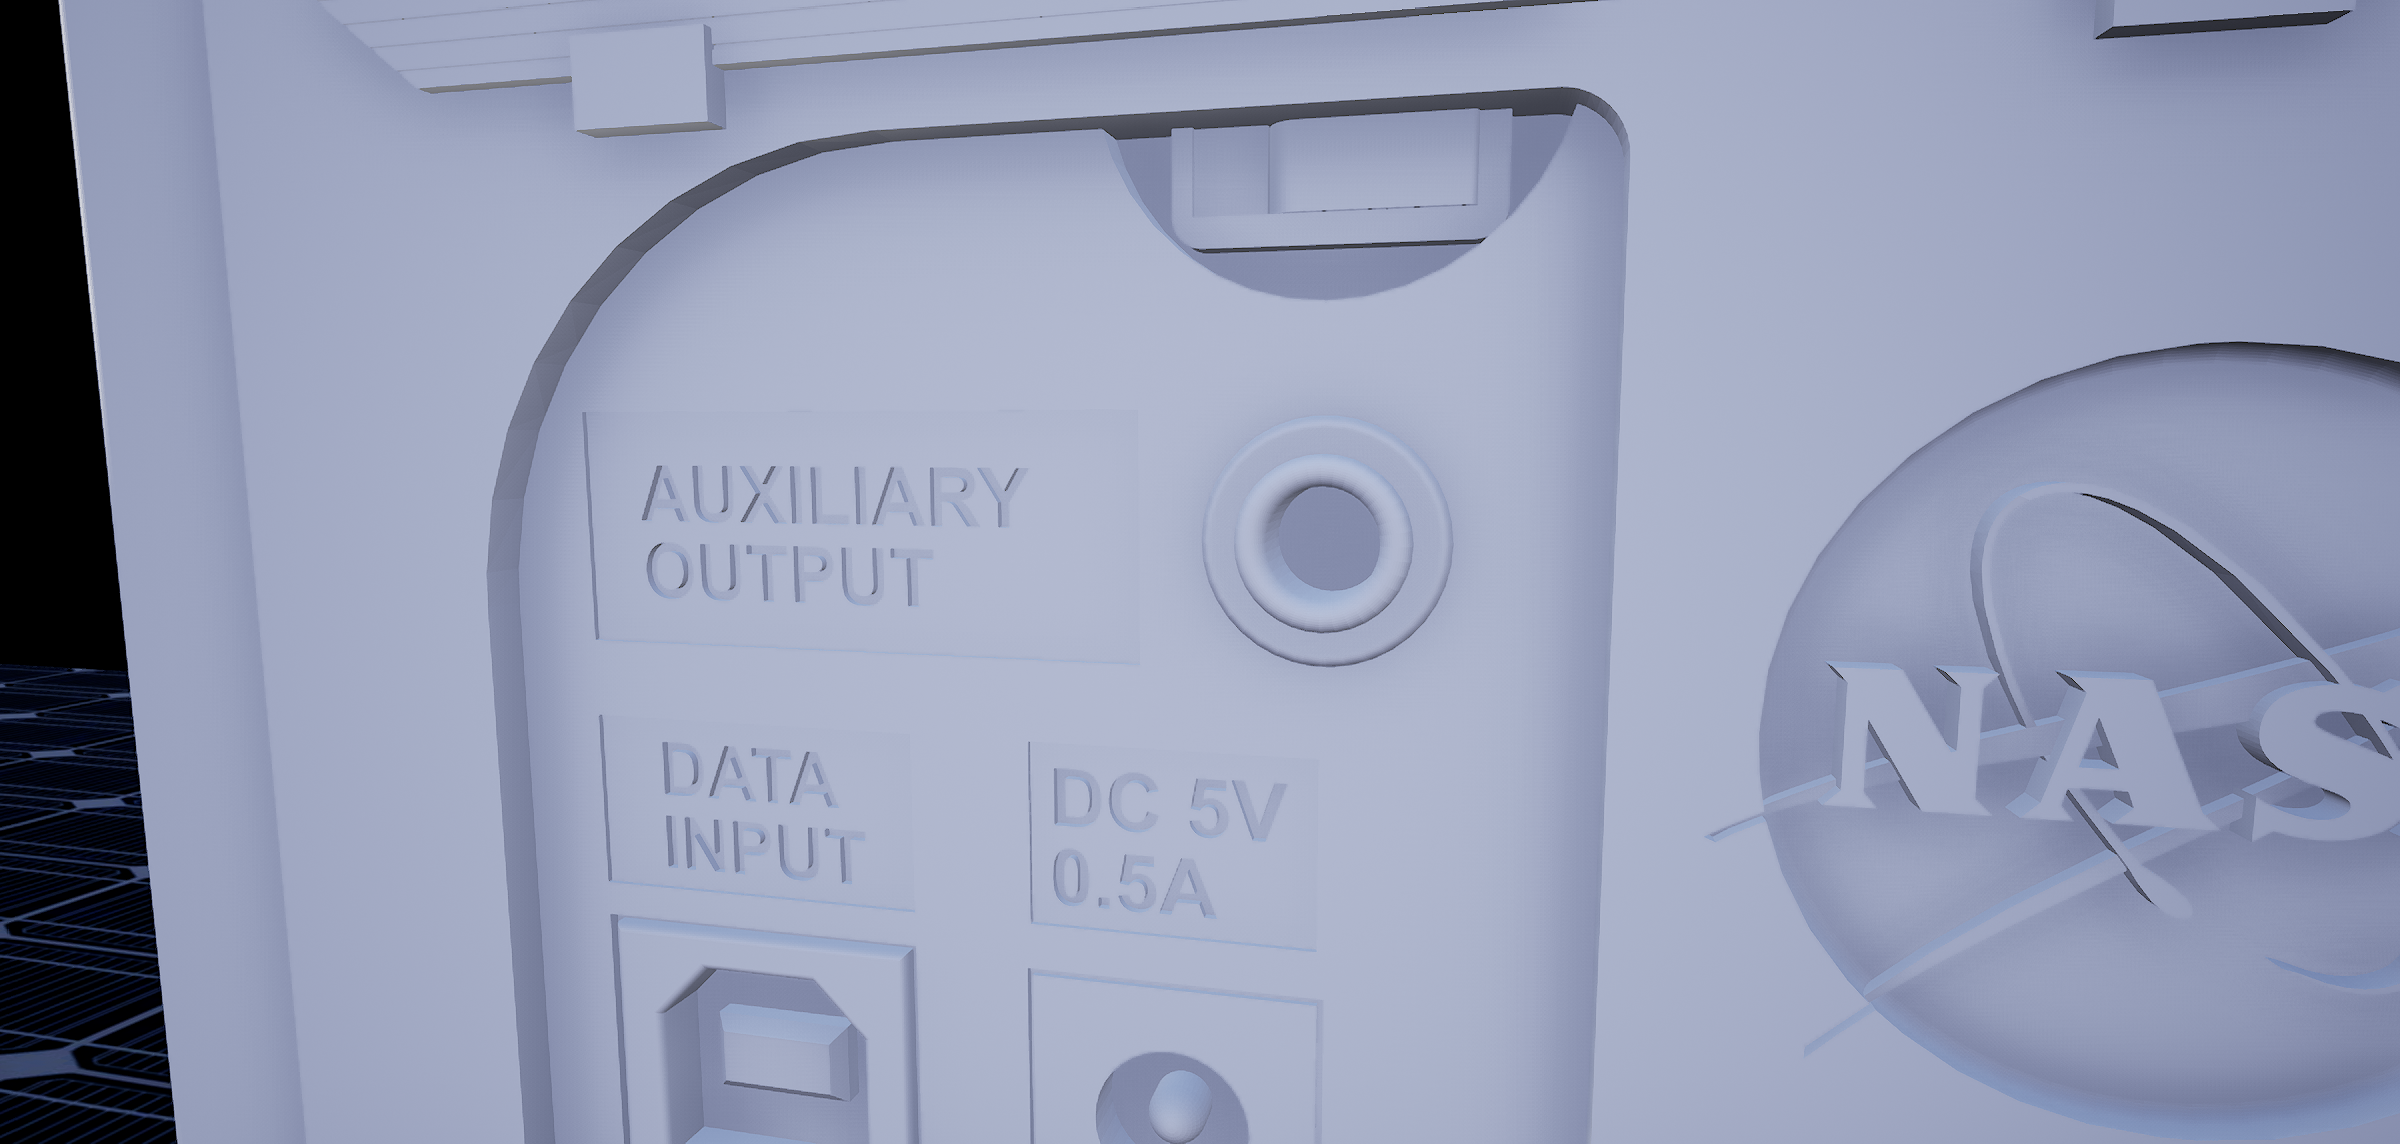aux: (1177, 407, 1477, 681)
dc: (1078, 1031, 1266, 1144)
usb: (647, 953, 888, 1144)
